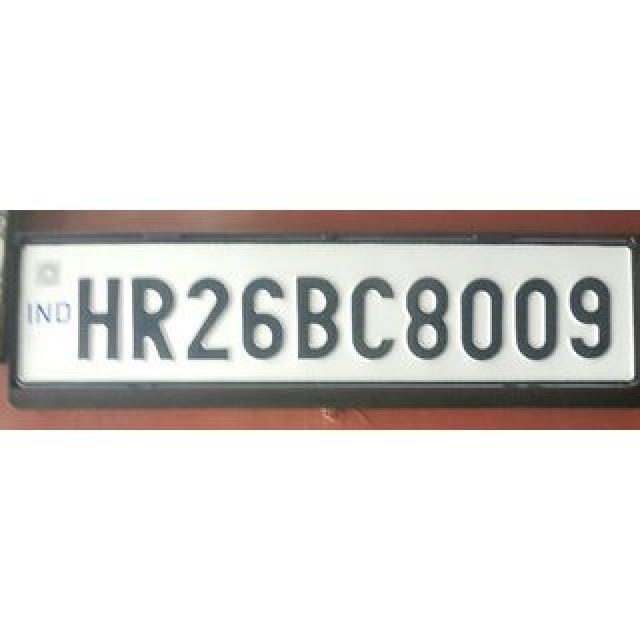License_Plate: (11, 234, 640, 396)
